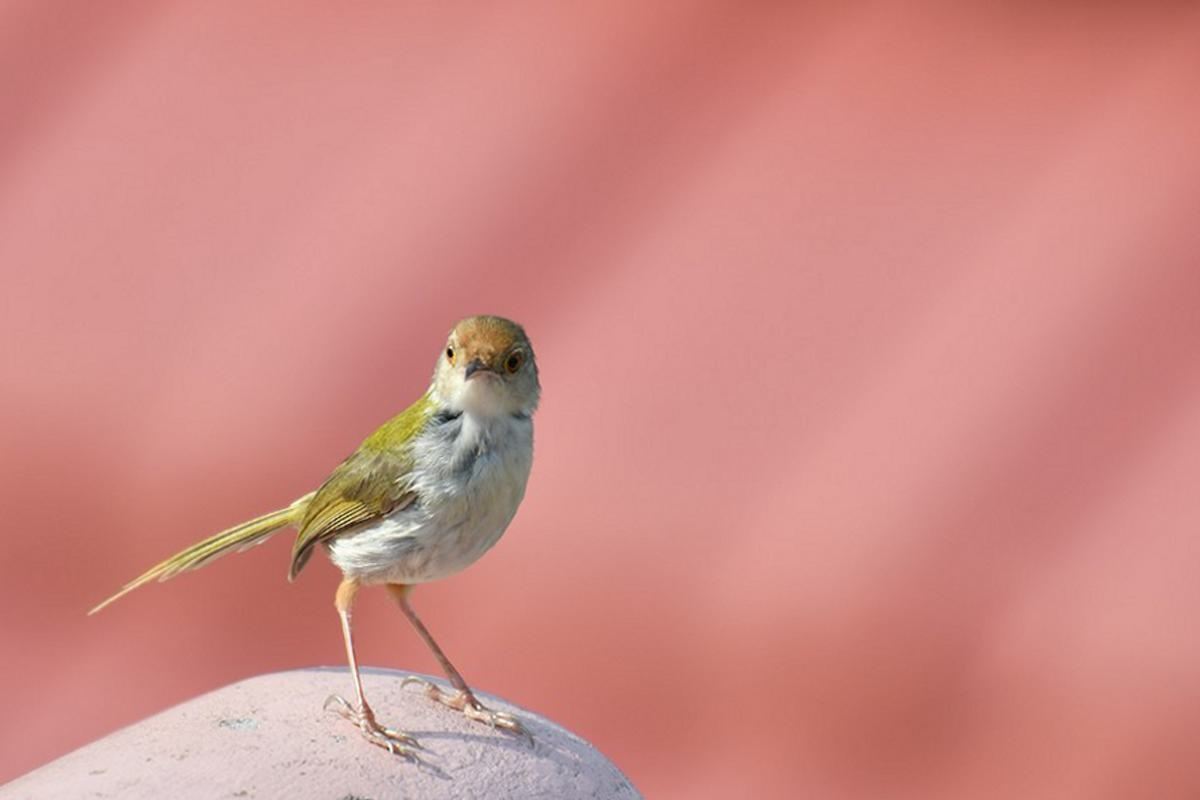tailorbird: (105, 277, 567, 775)
